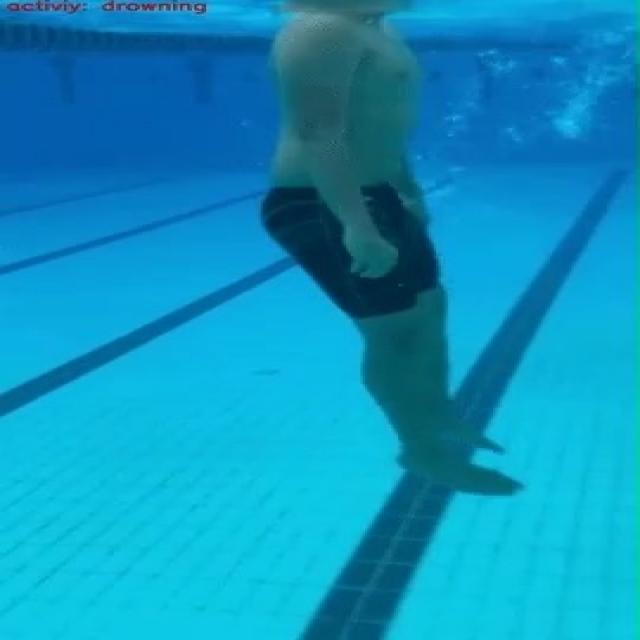Drowning: (249, 0, 531, 496)
